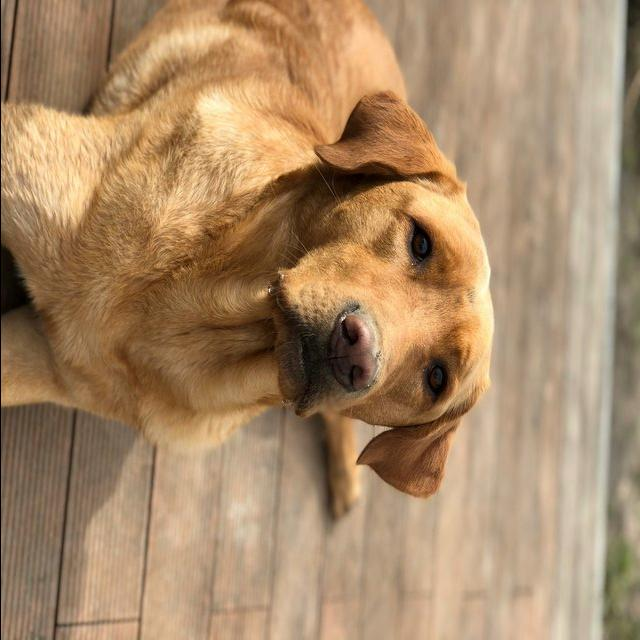retriever: (2, 1, 496, 522)
